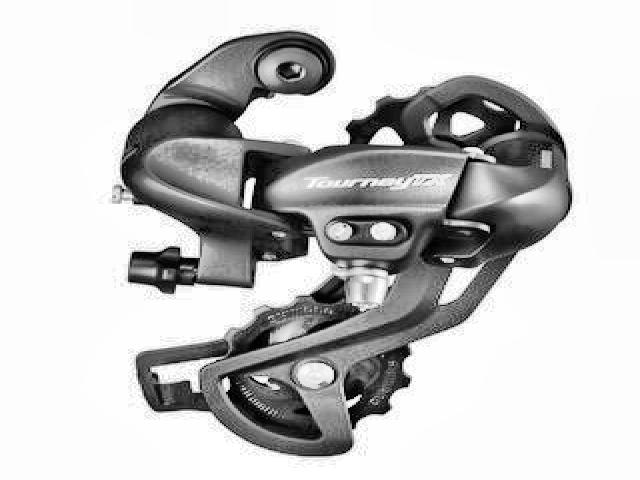rear_derailleur: (110, 28, 576, 460)
